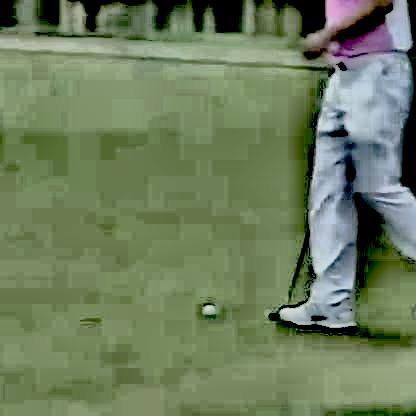golfball: (199, 300, 215, 316)
